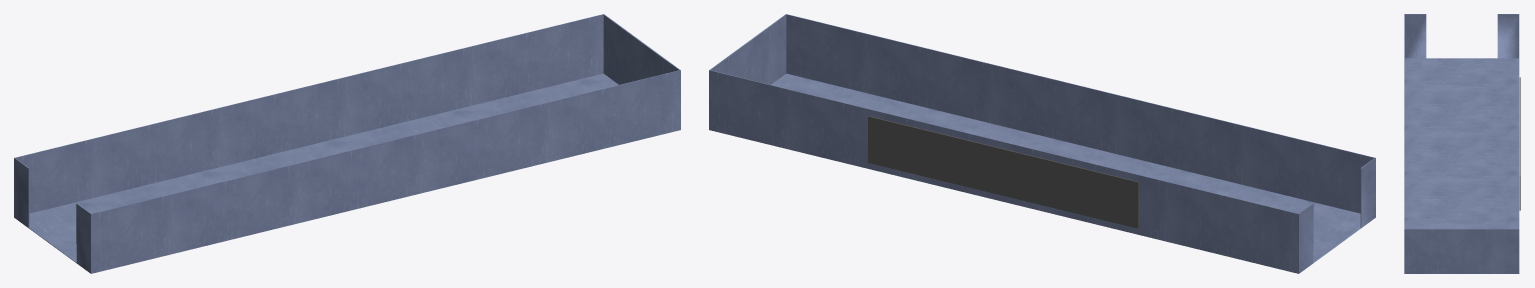
Rendered from Bay_Service.FBX.
3 renders of one model, left to right at view 1: azimuth 30°, elevation 25°; view 2: azimuth 150°, elevation 25°; view 3: azimuth 270°, elevation 25°, orthographic. The views are drawn at different scales.
Visible parts, largest first — view 1: Box_Drehgestell_001; view 2: Box_Drehgestell_001; view 3: Box_Drehgestell_001.
Part boxes in pixels (x1,y1,x2,y2): Box_Drehgestell_001: (14,14,680,273); Box_Drehgestell_001: (709,14,1375,273); Box_Drehgestell_001: (1404,14,1520,273).
Bounding box in the file's own units: 32.8 × 3.18 × 7.48.
Materials: 2 (1 with a texture image).
